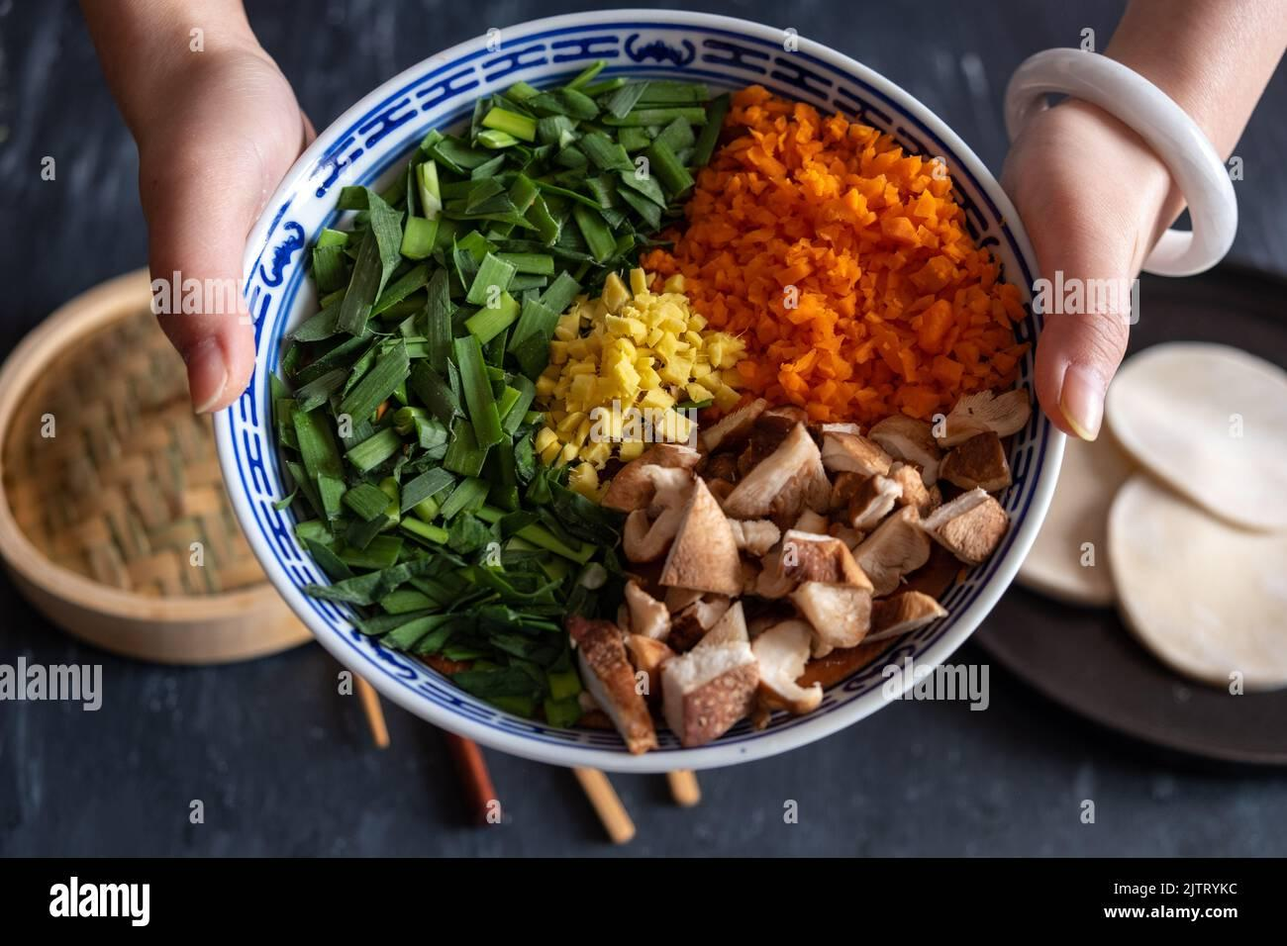carrot: (747, 93, 1005, 428)
ginger: (576, 274, 749, 467)
